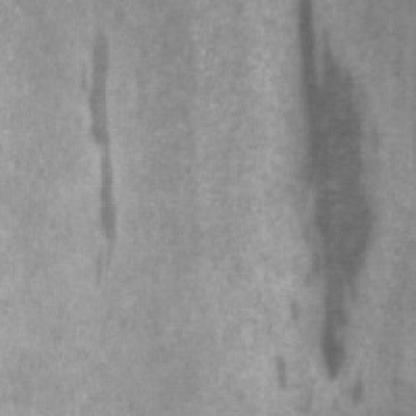inclusion: (284, 4, 376, 393), (71, 13, 125, 291), (262, 348, 296, 396)
